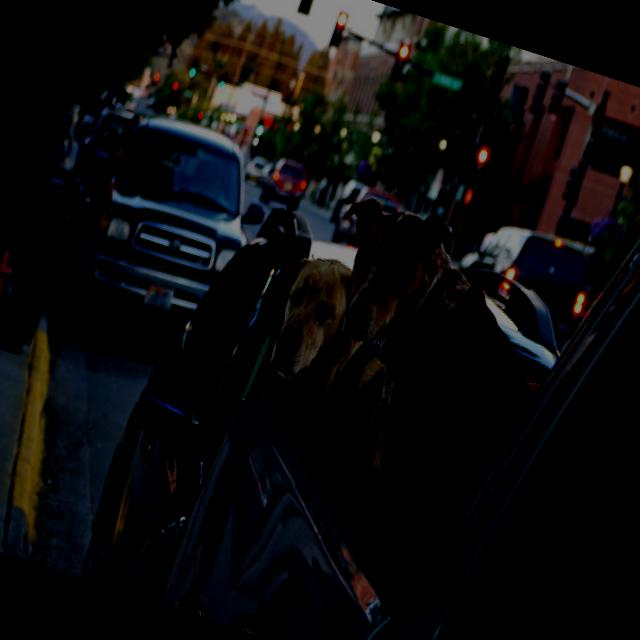Vehicle: (159, 0, 640, 640), (71, 166, 367, 628), (29, 94, 285, 378), (37, 95, 275, 374), (452, 209, 606, 347), (441, 263, 578, 386), (62, 100, 136, 203), (256, 154, 312, 212), (352, 183, 404, 220), (332, 185, 361, 222), (241, 154, 271, 186)
